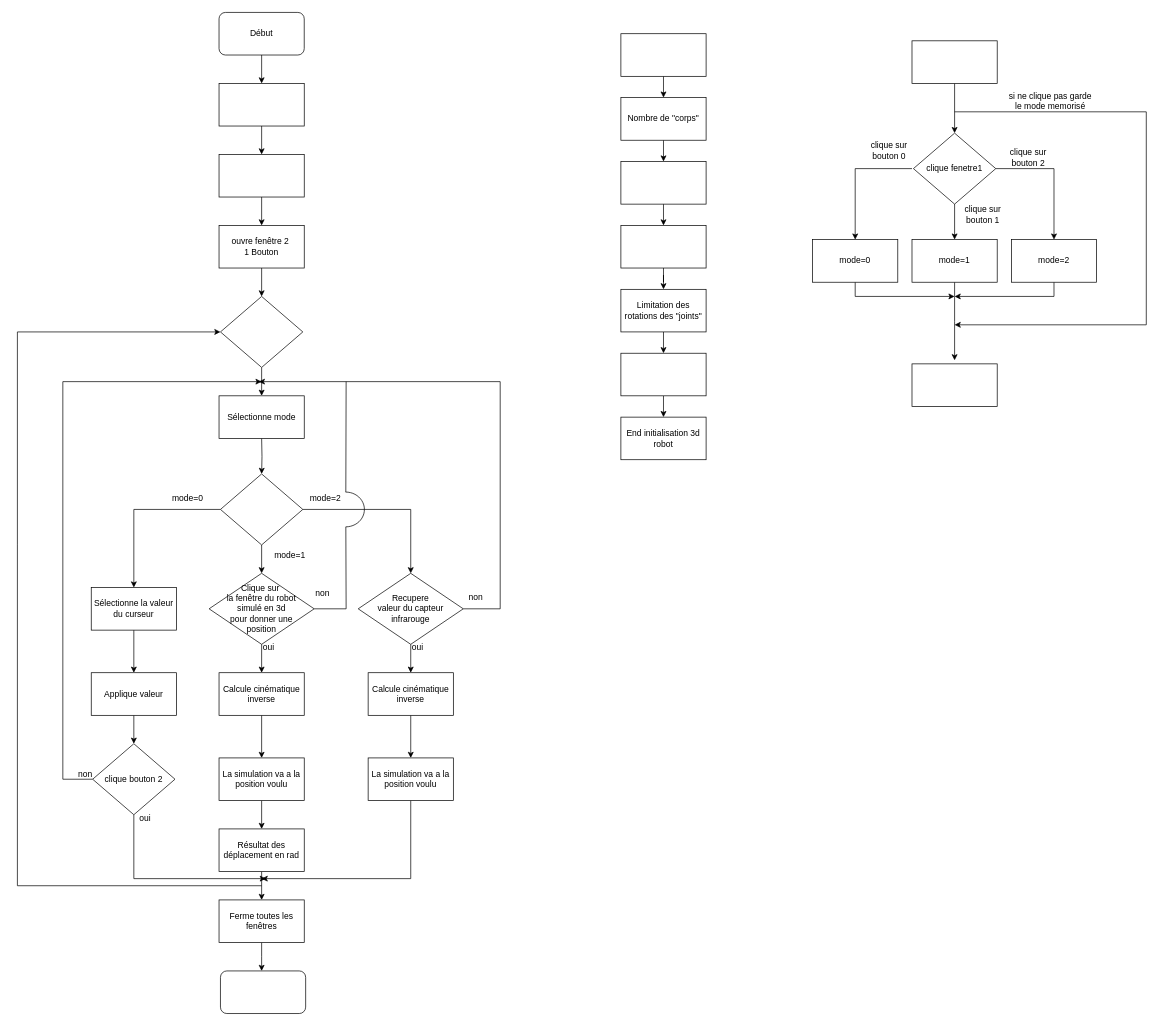
Image size: 1164x1026. Some labels were removed from this diagram. The shapes that lost their labels are listed below. From the top down, each one's centre as x and y in pixels, then its label:
[663,54]: Initialisation simulation 3d
[954,61]: Sélectionne mode default=0
[261,104]: Initialisation caractéristique du robot
[261,175]: ouvre fenêtre 1 2 Bouton
[663,182]: Dimension de chaque "corps"
[663,246]: Nombre de "joints"
[261,331]: While 'q' n'est pas appuyé sur le clavier
[663,374]: Création des curseurs
[954,384]: End mode
[261,509]: compare valeur drapeau
[263,992]: End
